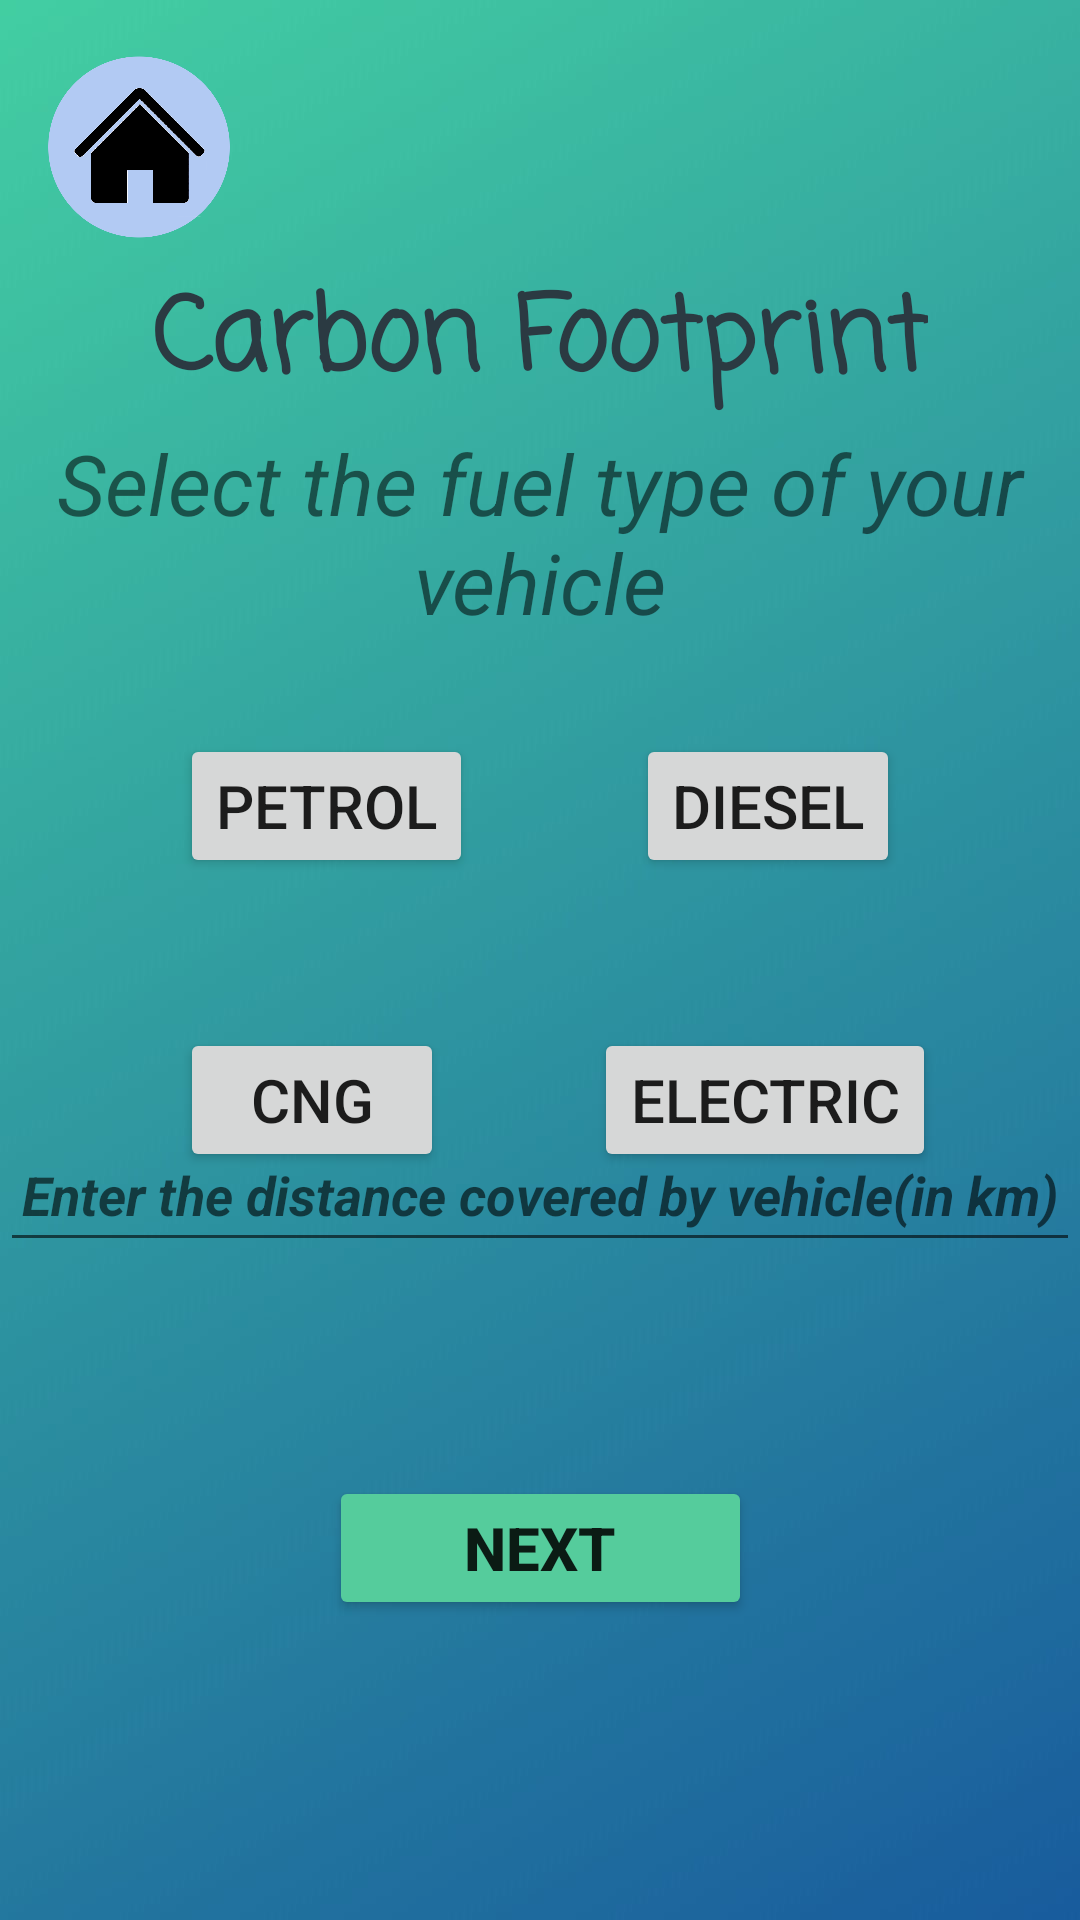

Screen size 1080 × 1920. Icon name, then its box in pixels as box=[x1, y1, x2, y2]:
home: box=[48, 56, 230, 238]
